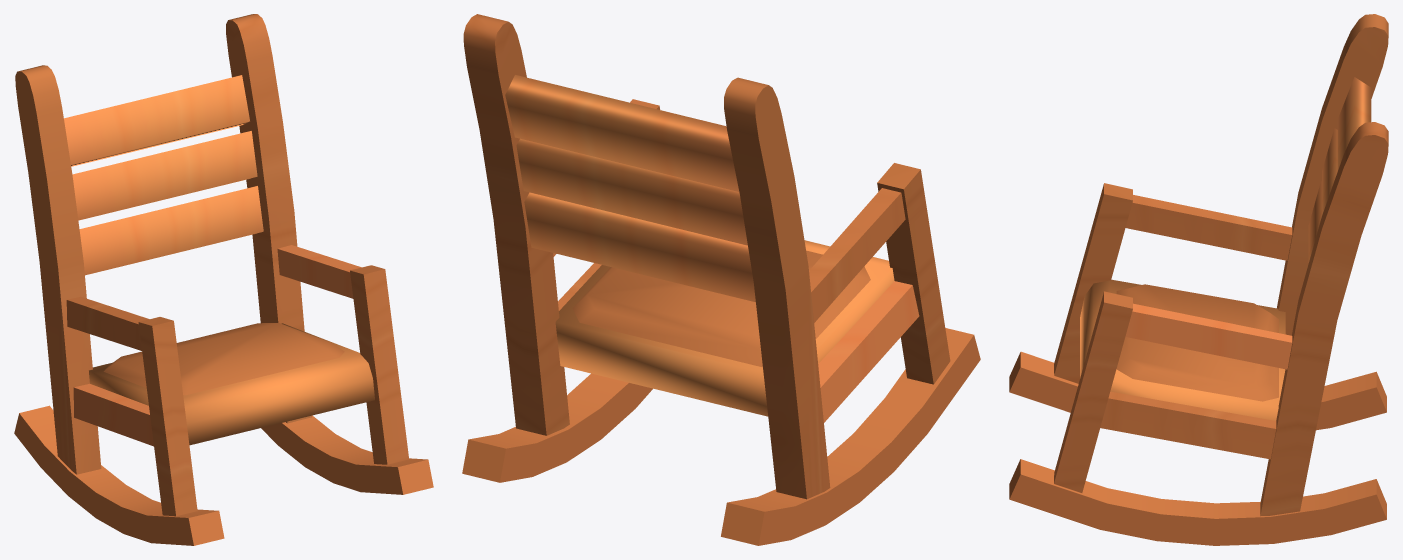
The model's file is RockingChair.fbx.
3 renders of one model, left to right at view 1: azimuth 30°, elevation 25°; view 2: azimuth 150°, elevation 25°; view 3: azimuth 270°, elevation 25°, orthographic. The views are drawn at different scales.
Visible parts, largest first — view 1: RockingChair; view 2: RockingChair; view 3: RockingChair.
Part boxes in pixels (x1,y1,x2,y2): RockingChair: (14,14,433,545); RockingChair: (462,14,980,545); RockingChair: (1009,14,1388,545).
Size of the model in its own units: 72.46 by 113 by 94.5.
